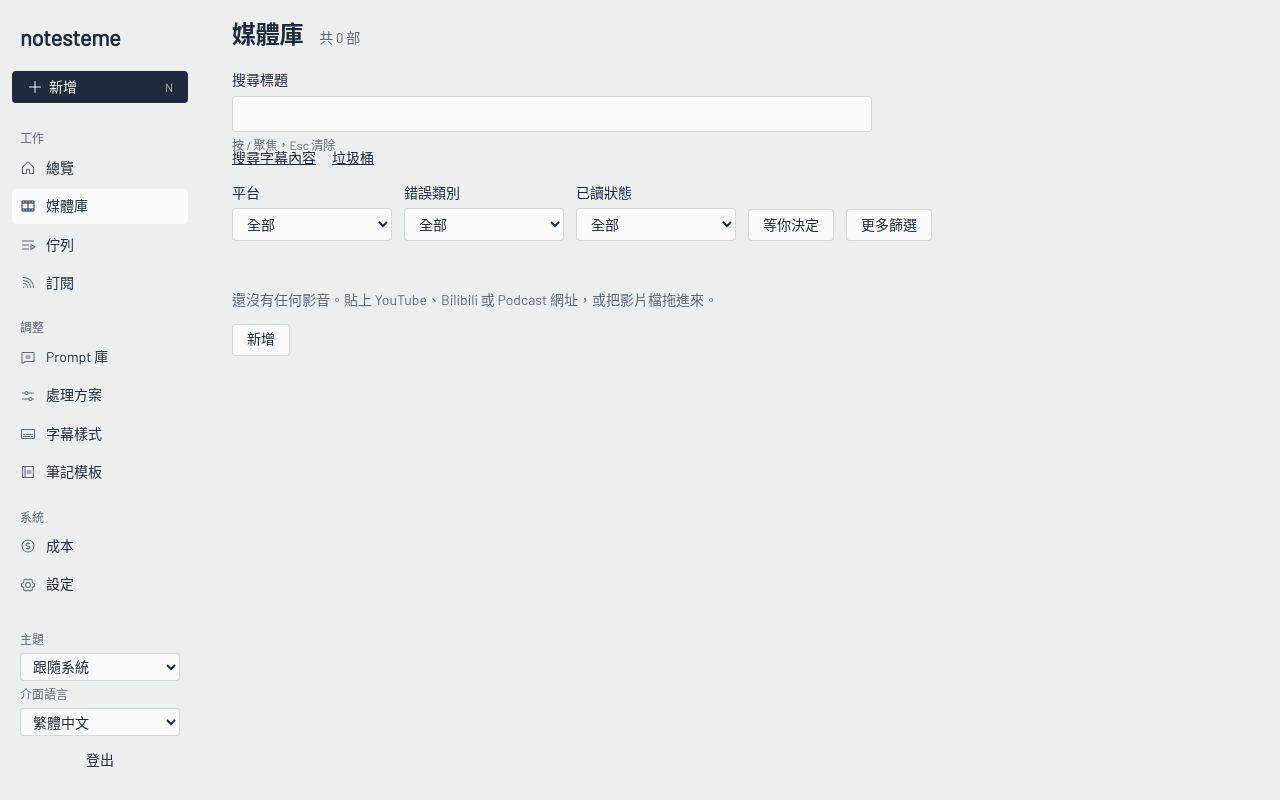
Test case: 媒體庫：列表 › 沒有影音時邀請新增；按鈕打開新增抽屜
This screenshot has width=1280, height=800.
Expected: the heading "媒體庫" is shown, [232,20,303,49]
Expected: the text "還沒有任何影音。貼上 YouTube、Bilibili 或 Podcast 網址，或把影片檔拖進來。" is shown, [232,289,718,312]
Note: 導覽也有「新增」：按空狀態裡的那一個
What coordinates should you click on to do the following:
click the button "新增"
I would click on:
 (261, 340)
Its box is [232,324,290,356].
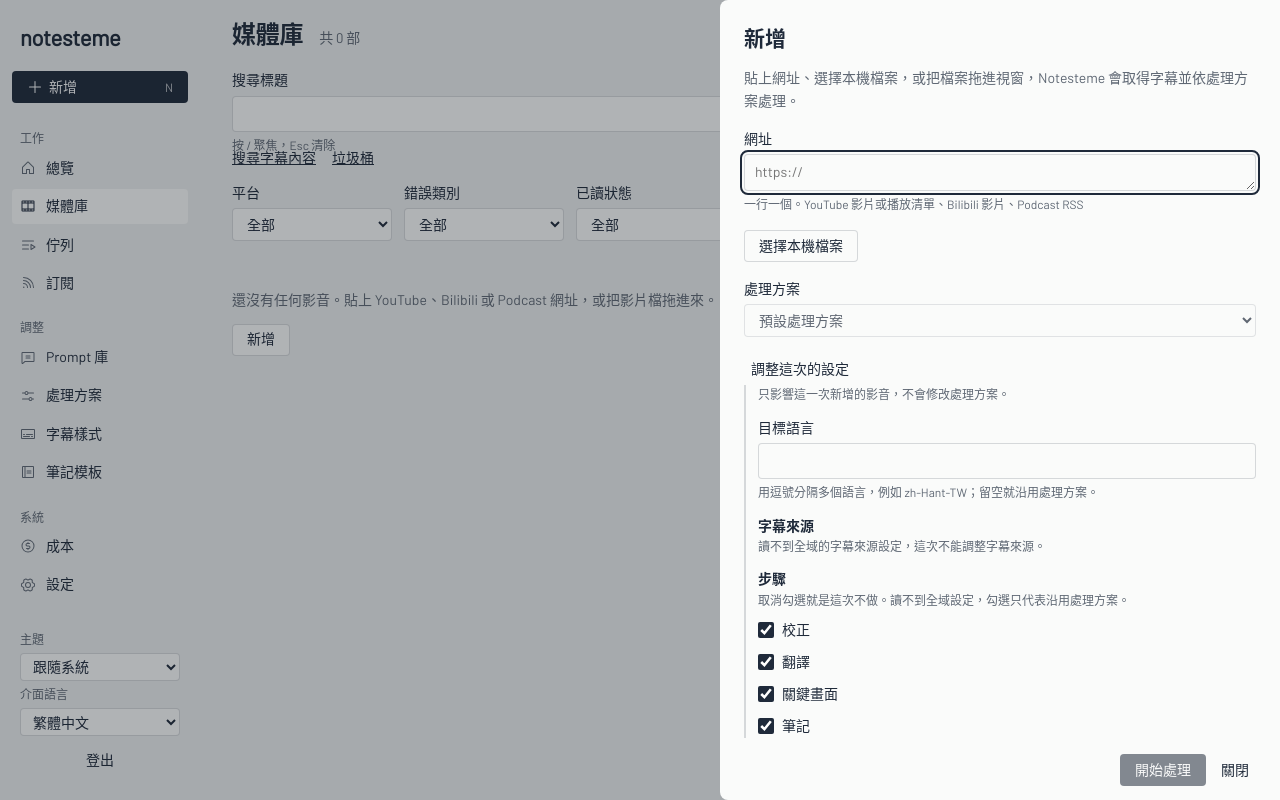
Expected: the dialog "新增" is shown, [720,0,1279,799]
